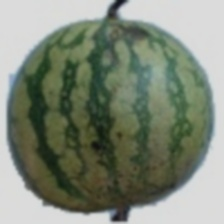watermelon: (27, 34, 201, 201)
